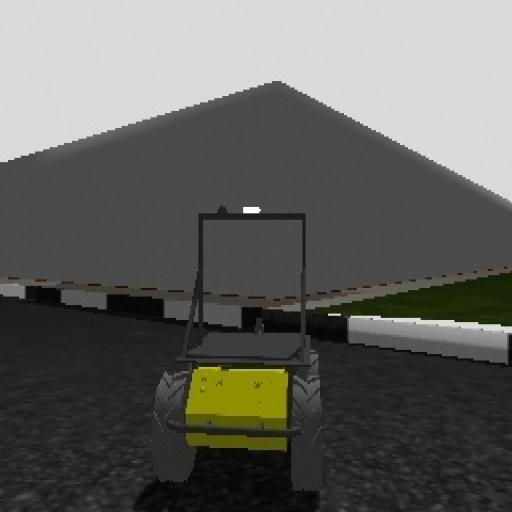huskya200: (156, 206, 334, 497)
